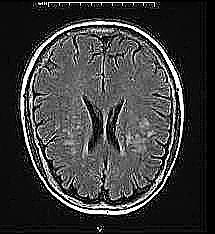Normal_Brain: (2, 1, 215, 234)
